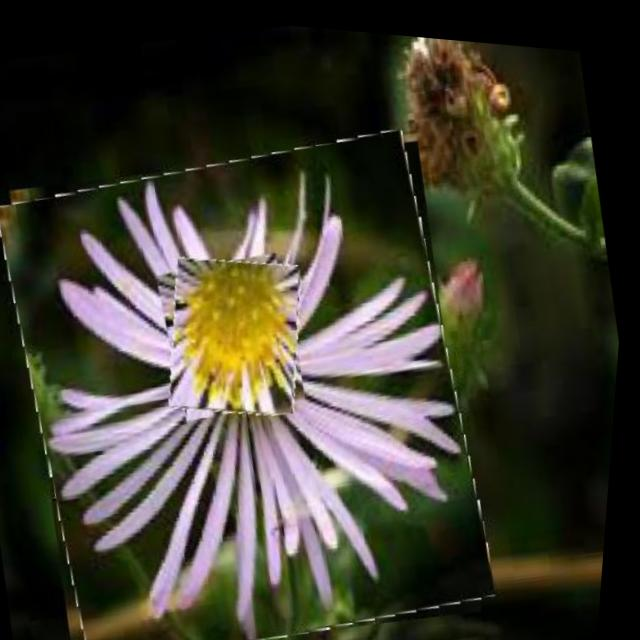Flower: (0, 95, 528, 640), (152, 233, 329, 430)
